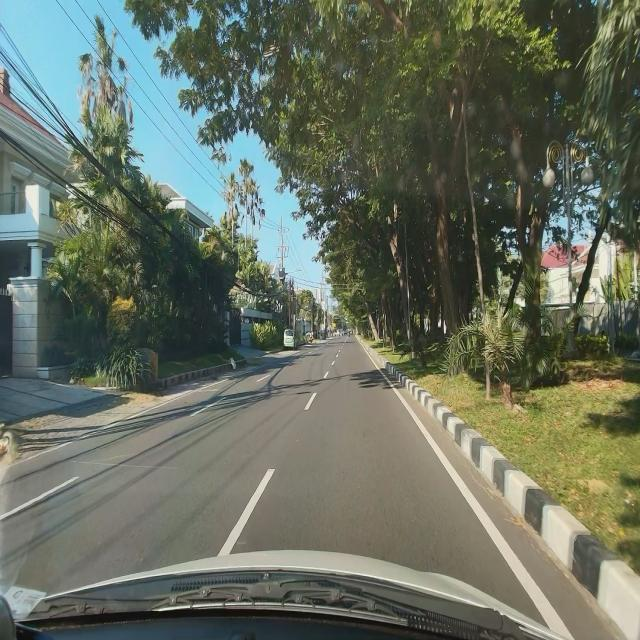car: (283, 328, 298, 352)
